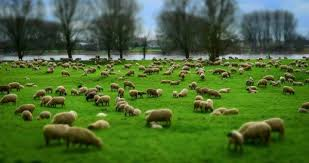sheep: (66, 124, 105, 150), (240, 122, 274, 144), (262, 115, 290, 141), (40, 124, 73, 142), (223, 127, 245, 151), (148, 108, 175, 127), (52, 111, 78, 126), (89, 117, 113, 130), (195, 96, 211, 115), (12, 102, 37, 114), (221, 106, 242, 119), (95, 95, 116, 108), (243, 82, 261, 97), (281, 83, 298, 98), (201, 98, 214, 117), (84, 89, 103, 102), (49, 86, 70, 97), (1, 81, 24, 91), (121, 104, 140, 116), (48, 95, 64, 109), (73, 86, 91, 98), (211, 104, 226, 118), (215, 84, 231, 97), (130, 87, 148, 98), (21, 110, 38, 121), (68, 86, 83, 98), (282, 72, 299, 82), (39, 108, 53, 120), (94, 83, 108, 95), (207, 86, 221, 98), (197, 86, 212, 97), (1, 91, 17, 101), (169, 89, 182, 101), (39, 95, 53, 106), (146, 87, 161, 97), (185, 78, 198, 89), (33, 88, 46, 98), (254, 58, 268, 67), (121, 81, 136, 89), (109, 83, 122, 92), (258, 77, 271, 86), (177, 88, 188, 98), (228, 58, 239, 68), (219, 69, 230, 79), (170, 79, 181, 89), (142, 67, 155, 75), (125, 69, 138, 77), (278, 64, 292, 71), (163, 79, 177, 86), (263, 72, 275, 80), (149, 67, 162, 74), (102, 69, 113, 77), (182, 65, 194, 72), (85, 66, 99, 72), (199, 71, 208, 80), (163, 69, 174, 76), (173, 62, 182, 70), (64, 62, 73, 70), (42, 60, 51, 68), (155, 59, 165, 66), (32, 64, 40, 72), (241, 63, 249, 70), (196, 61, 204, 67), (62, 70, 68, 76), (47, 66, 53, 72), (20, 62, 26, 67)
